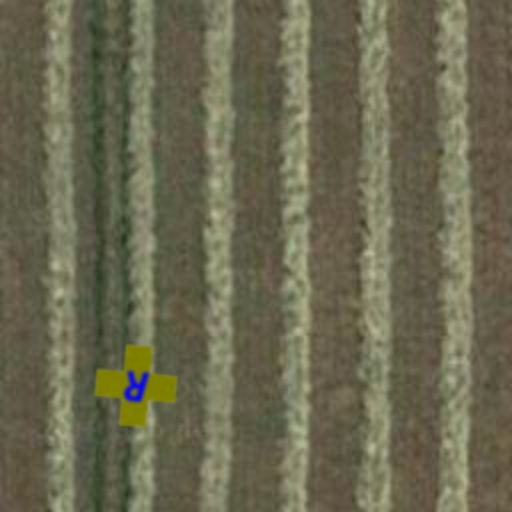cross: (92, 342, 180, 430)
